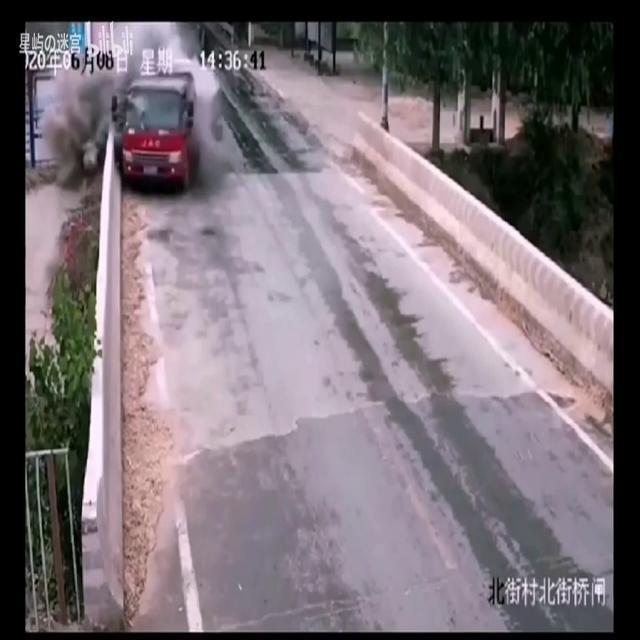accident: (58, 54, 218, 194)
